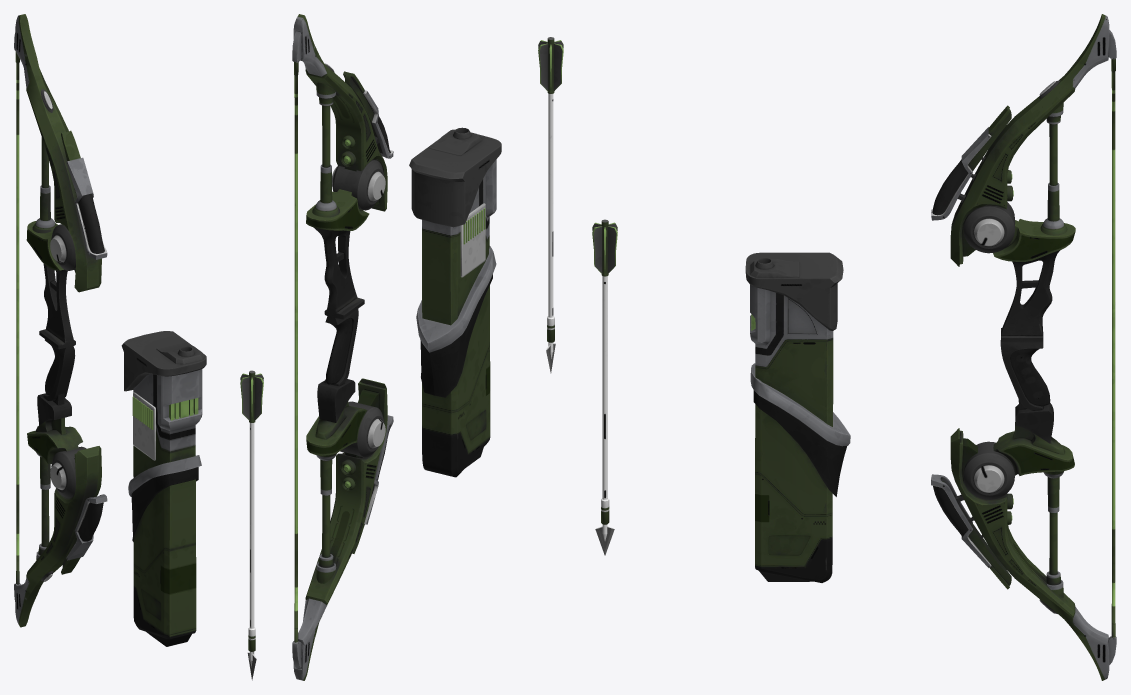
File: bow.fbx
The picture shows the model from 3 angles, left to right: view 1: azimuth 30°, elevation 25°; view 2: azimuth 150°, elevation 25°; view 3: azimuth 270°, elevation 25°; orthographic projection. The views are drawn at different scales.
Parts seen in each view (by area): view 1: defaultMaterial, defaultMaterial.010, defaultMaterial.018, defaultMaterial.001; view 2: defaultMaterial, defaultMaterial.010, defaultMaterial.018, defaultMaterial.001; view 3: defaultMaterial, defaultMaterial.010, defaultMaterial.018, defaultMaterial.001.
Part boxes in pixels (x1,y1,x2,y2): defaultMaterial: (14,14,107,627); defaultMaterial.010: (121,331,206,646); defaultMaterial.018: (240,370,263,680); defaultMaterial.001: (15,51,19,584); defaultMaterial: (292,14,393,680); defaultMaterial.010: (409,127,501,477); defaultMaterial.018: (538,37,563,373); defaultMaterial.001: (294,61,298,642); defaultMaterial: (931,14,1116,680); defaultMaterial.010: (745,252,850,582); defaultMaterial.018: (592,219,617,555); defaultMaterial.001: (1111,59,1115,637).
Size of the model in its own units: 578 by 6861 by 4910.
Materials: 1 (1 with a texture image).
